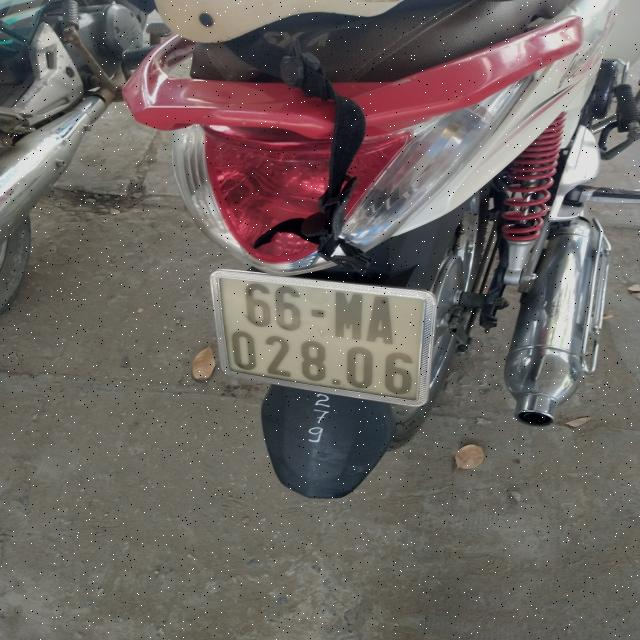0: (342, 345, 377, 395), (228, 330, 260, 372)
2: (264, 335, 295, 380)
6: (269, 283, 305, 333), (383, 348, 412, 399), (246, 278, 272, 329)
8: (297, 337, 327, 382)
A: (364, 293, 396, 347)
M: (328, 290, 366, 340)
